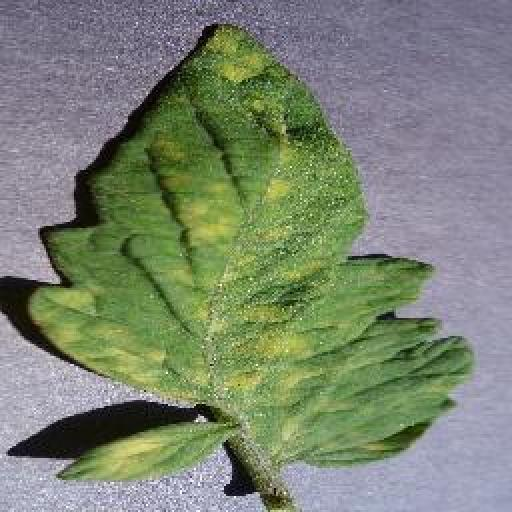disease_tomato: (27, 20, 475, 487)
